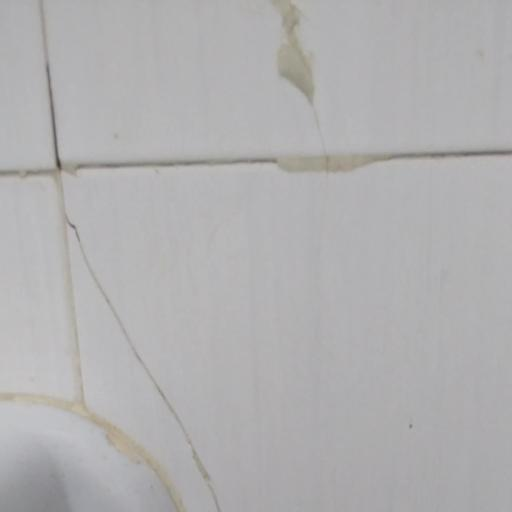minor_crack: (39, 158, 243, 512)
